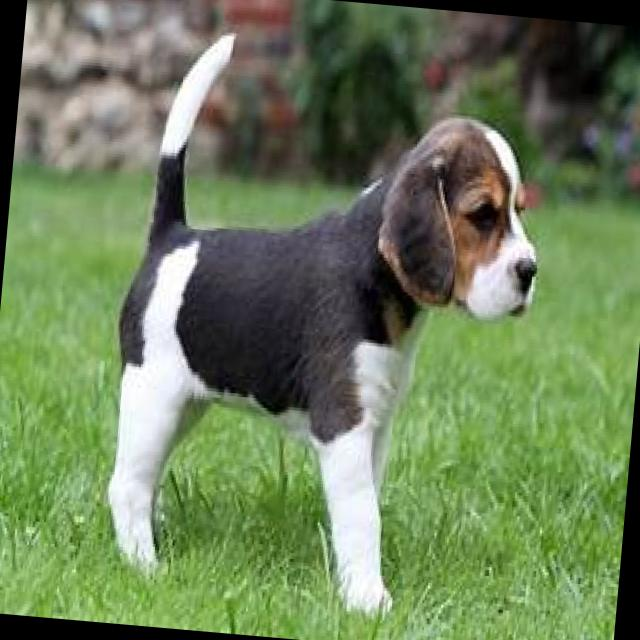dog: (95, 22, 558, 631)
